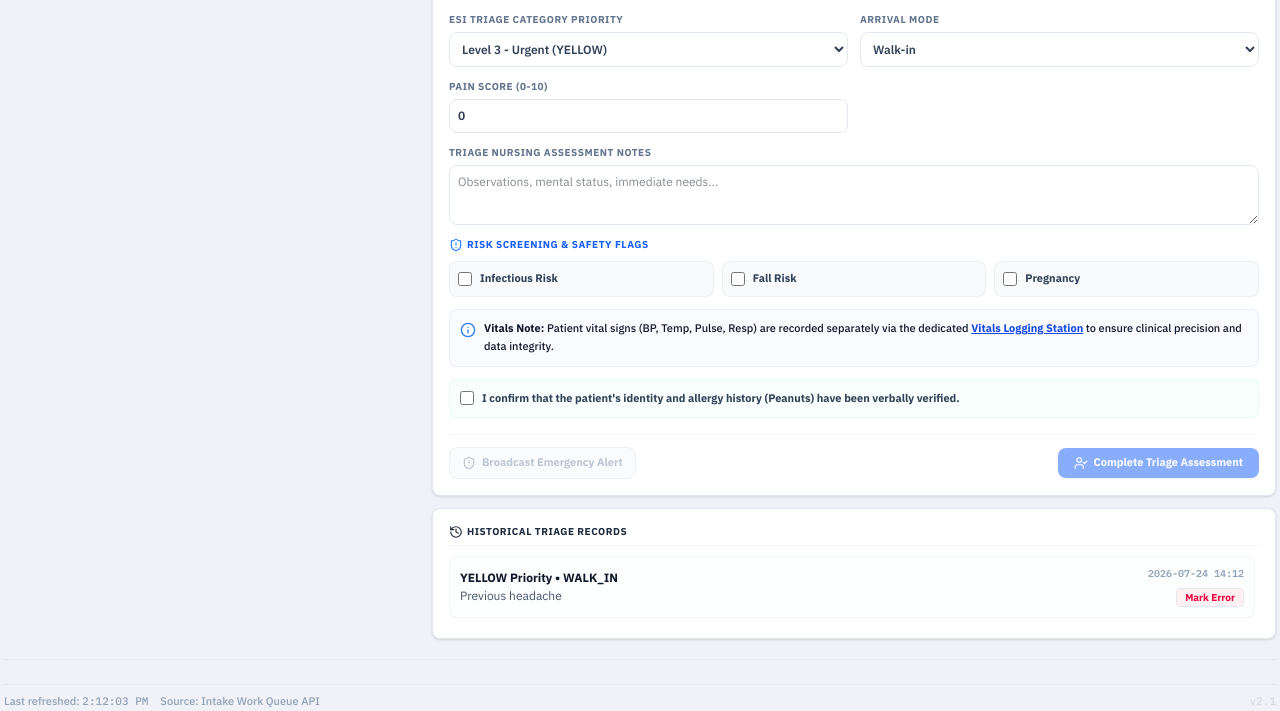
it: NurseTriageQueuePage › requires reason before submitting correction
(page scrolled)
Click the button "Mark Error" at (1210,598), box top-left (1176, 588), bottom-right (1244, 607)
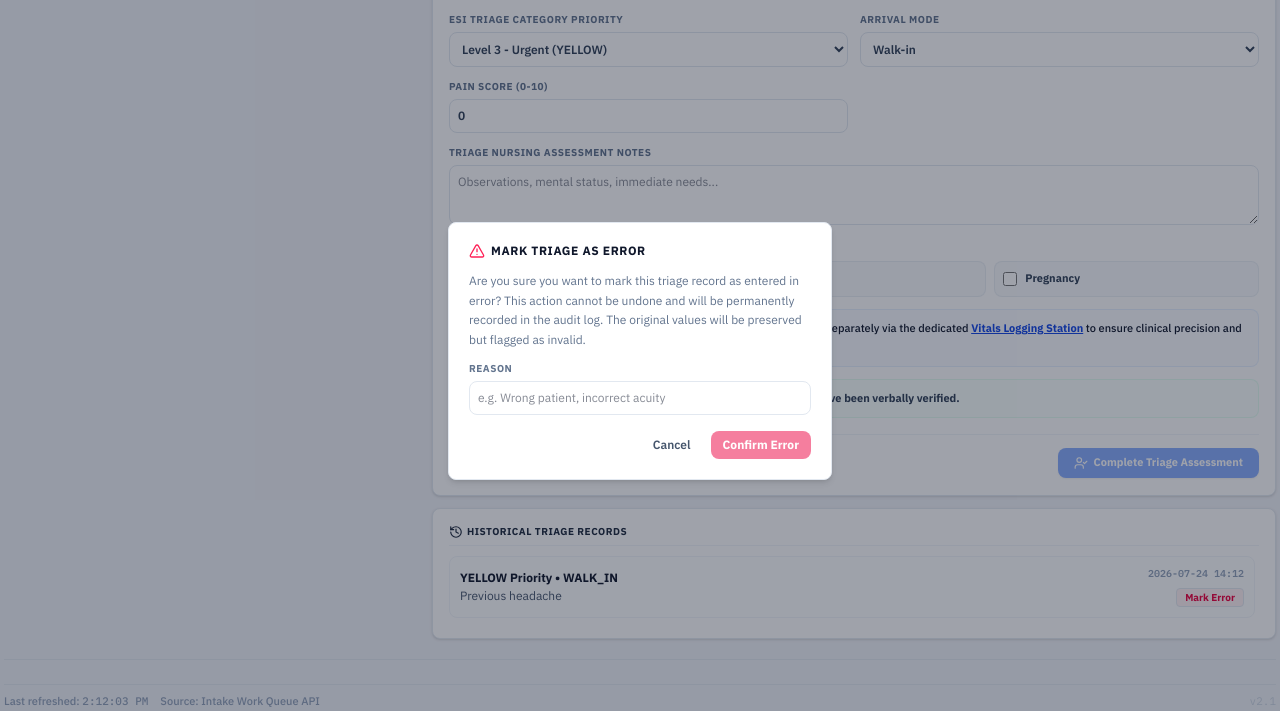
Check: the heading "Mark Triage as Error" is shown, box top-left (469, 243), bottom-right (646, 259)
Check: the button "Confirm Error" is disabled, box top-left (710, 431), bottom-right (811, 459)
